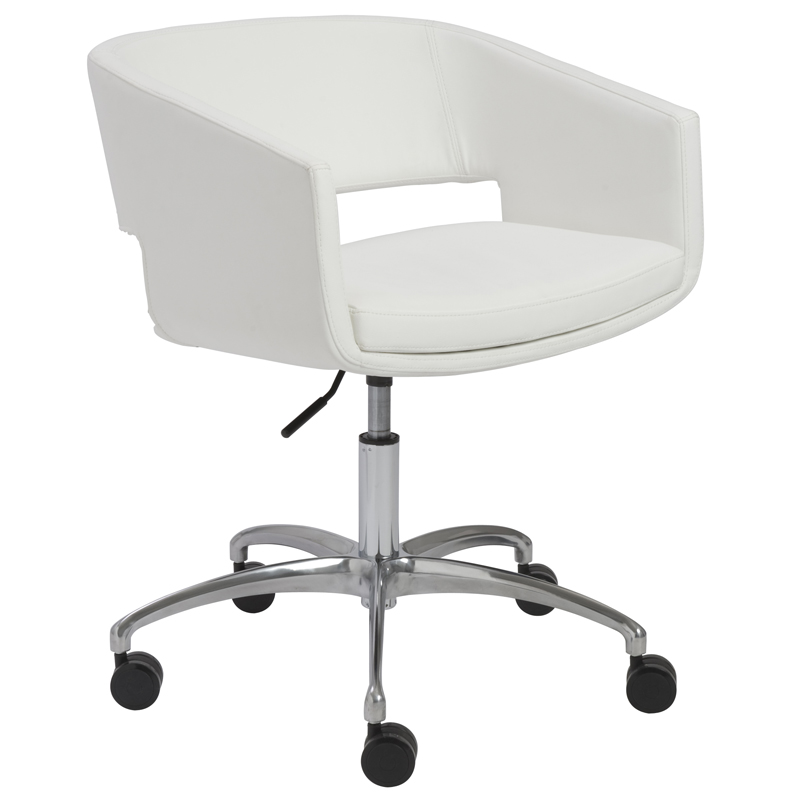chairs: (68, 9, 707, 789)
